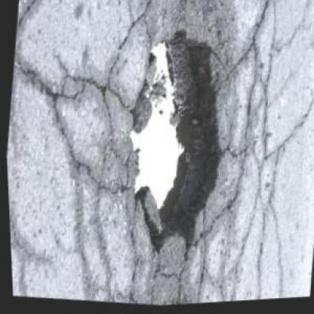Hueco: (104, 23, 245, 266)
